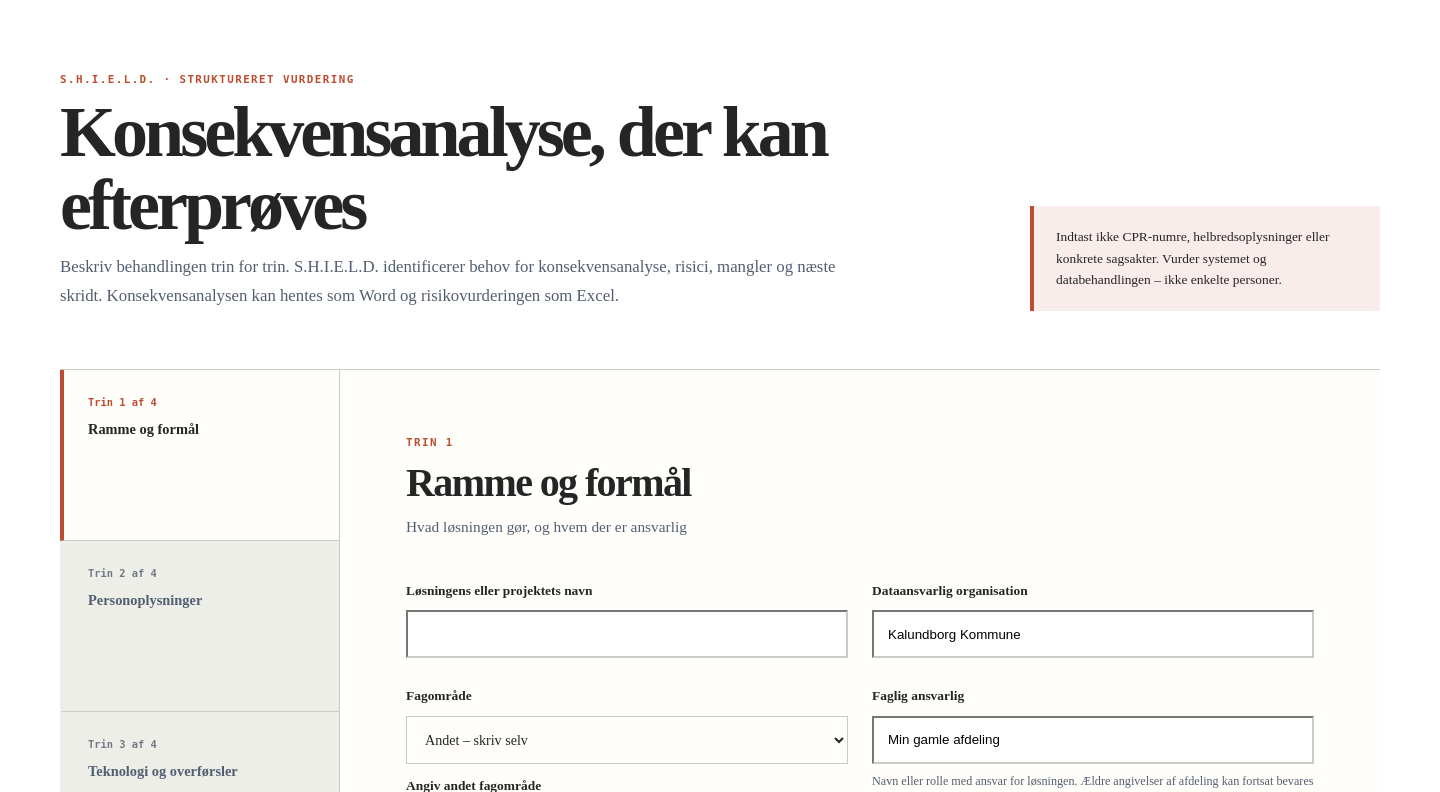
Test: gamle fritekstværdier vises under Andet, og ansvarlig bliver ikke omfortolket
The image size is (1440, 792).
Expected: the field labelled "Faglig ansvarlig" holds "Min gamle afdeling", [872, 716, 1314, 764]
Select "Organisationsstaben" in the dropdown labelled "Fagområde" at (627, 740), box [406, 716, 848, 764]
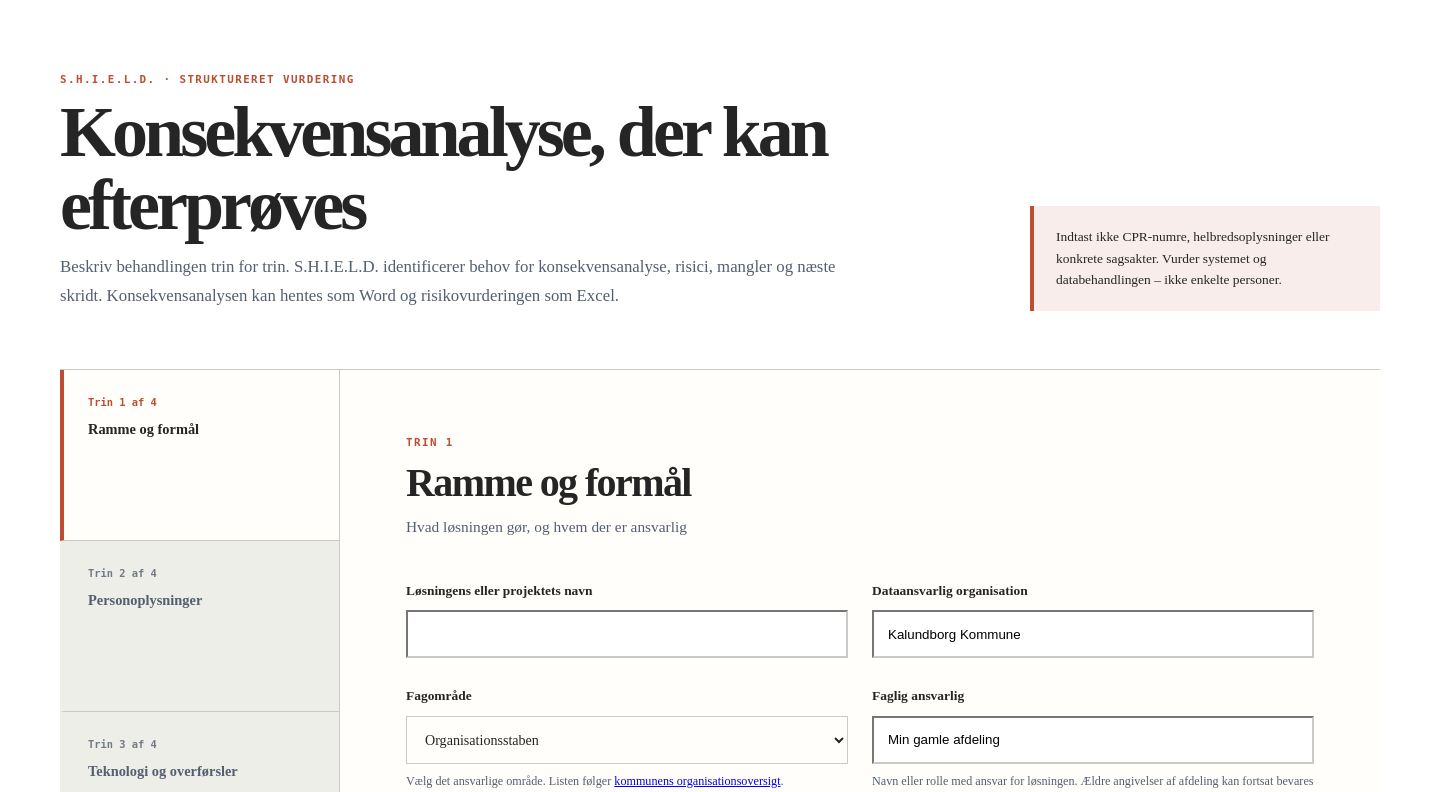
Select "Andet – skriv selv" in the dropdown labelled "Fagområde" at (627, 740), box [406, 716, 848, 764]
(page scrolled)
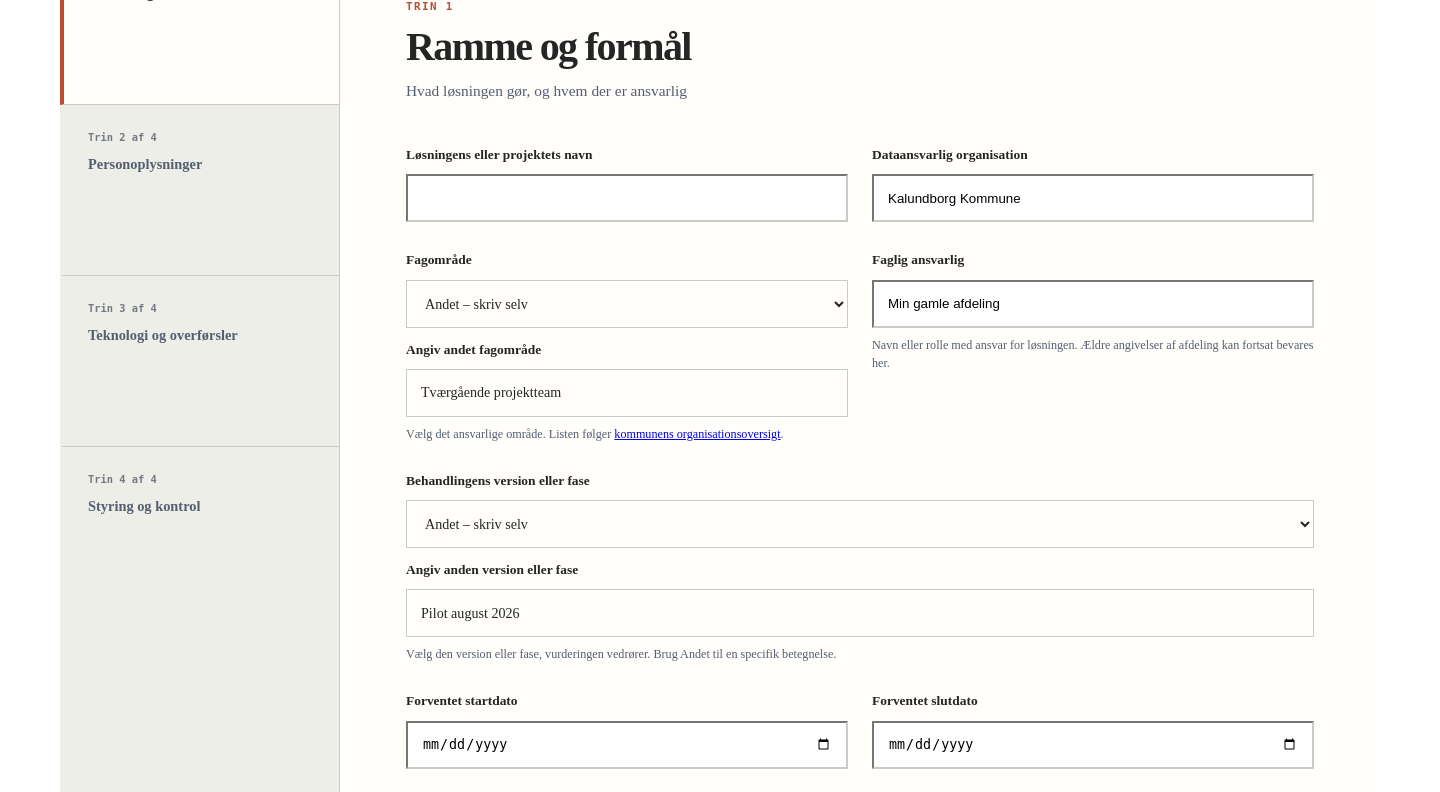
Now the field labelled "Angiv andet fagområde" holds "Tværgående projektteam", box [406, 369, 848, 417]
